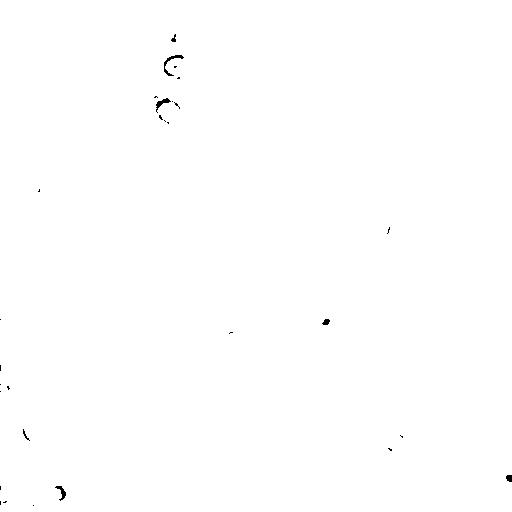micro-algae: (111, 36, 190, 114), (355, 174, 425, 242), (463, 79, 509, 163), (211, 133, 256, 177), (410, 457, 455, 499), (289, 43, 331, 77), (140, 141, 177, 177), (346, 15, 382, 49), (25, 112, 53, 150), (197, 428, 229, 460), (455, 0, 492, 27), (1, 362, 29, 396), (157, 22, 191, 50), (485, 457, 512, 491), (154, 373, 178, 411), (175, 26, 205, 55), (154, 443, 185, 471), (103, 57, 133, 81), (117, 251, 139, 283), (165, 77, 193, 101), (219, 331, 250, 352), (257, 487, 283, 512), (381, 430, 408, 454), (253, 287, 279, 311), (88, 493, 121, 511), (163, 55, 190, 77), (156, 99, 181, 121), (497, 88, 511, 127), (199, 461, 223, 483), (72, 263, 92, 289), (315, 307, 337, 330), (383, 219, 404, 242), (24, 420, 45, 442), (47, 484, 68, 505), (295, 274, 317, 293), (167, 0, 199, 13), (168, 393, 187, 414), (311, 321, 327, 344), (131, 447, 147, 468), (212, 352, 230, 370), (13, 500, 41, 511), (131, 300, 147, 319), (2, 483, 17, 503), (433, 0, 463, 9), (27, 181, 41, 199), (391, 501, 415, 511), (55, 1, 69, 7)
